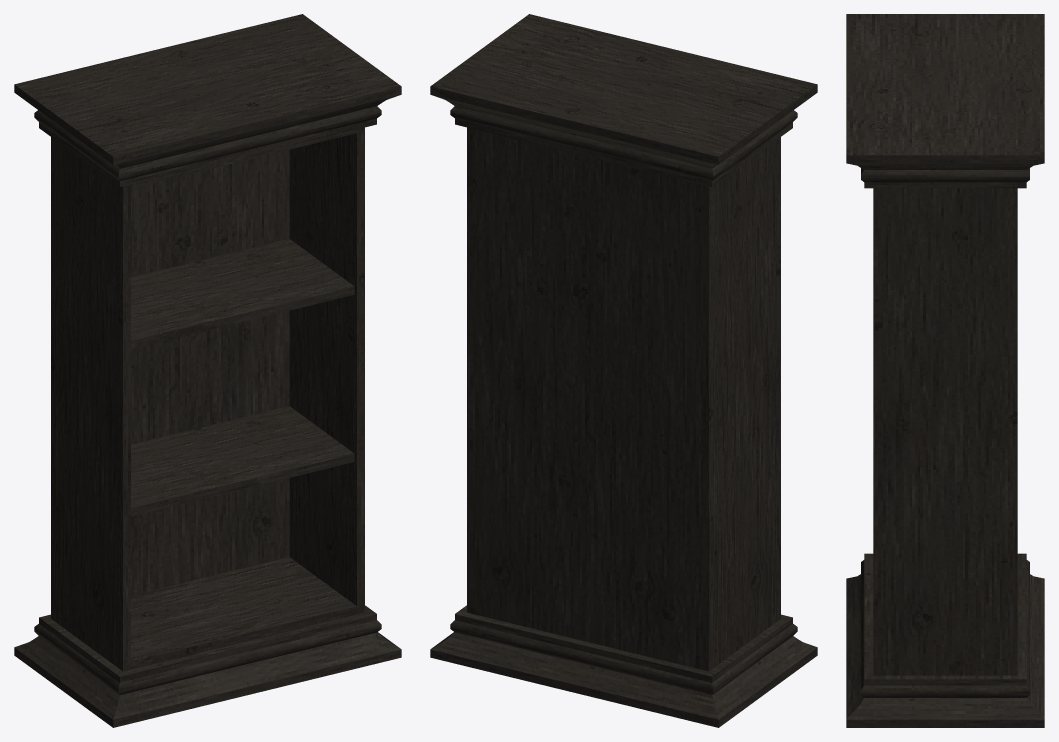
Rendered from shelf_mp_2.glb.
The picture shows the model from 3 angles, left to right: view 1: azimuth 30°, elevation 25°; view 2: azimuth 150°, elevation 25°; view 3: azimuth 270°, elevation 25°; orthographic projection.
Parts seen in each view (by area): view 1: shelf_mp_2; view 2: shelf_mp_2; view 3: shelf_mp_2.
Part boxes in pixels (box(x1,y1,x2,y2)): shelf_mp_2: box(14, 14, 401, 727); shelf_mp_2: box(430, 14, 817, 727); shelf_mp_2: box(846, 14, 1044, 727).
Bounding box in the file's own units: 0.74 × 1.4 × 0.44.
Materials: 1 (1 with a texture image).
